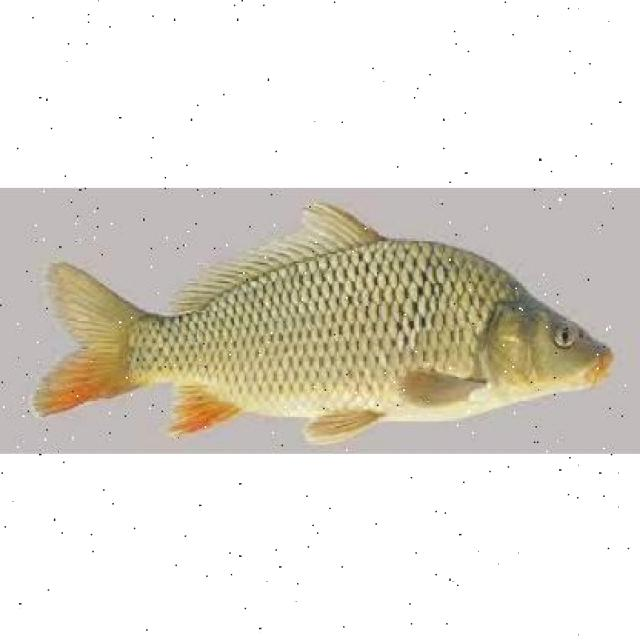ikan-mas: (38, 216, 618, 434)
